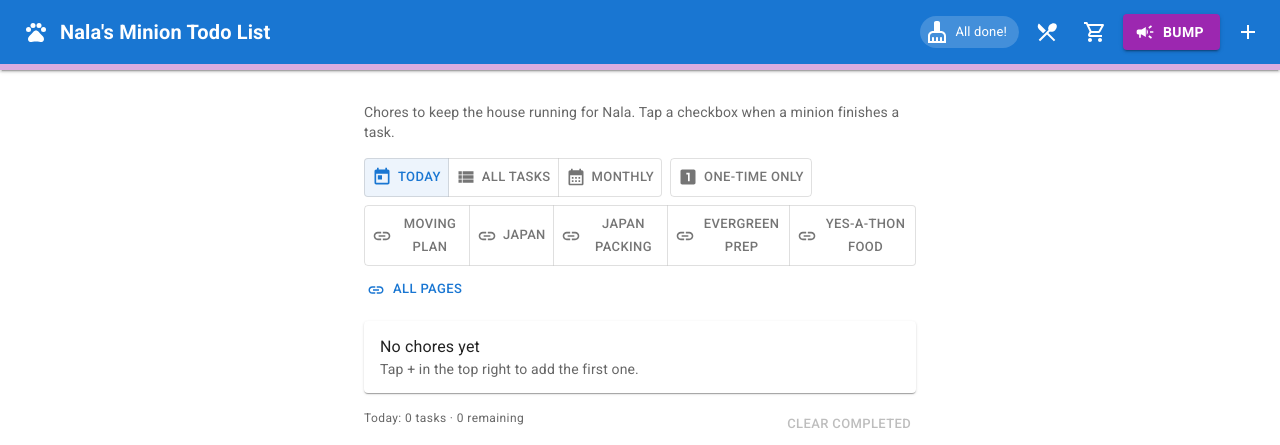
it: toolbar navigation to the menu › the chores page toolbar reaches /menu
The image size is (1280, 445).
Step 1. Click the button named "weekly menu" → [1047, 32], box [1027,12,1067,52]
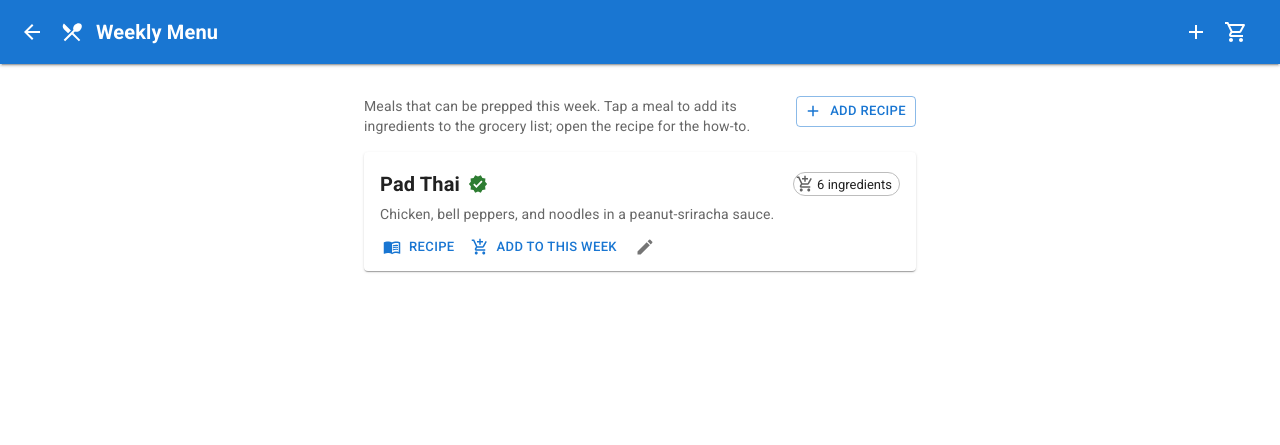
Now the heading "Pad Thai" is shown, box [380,168,460,200]
